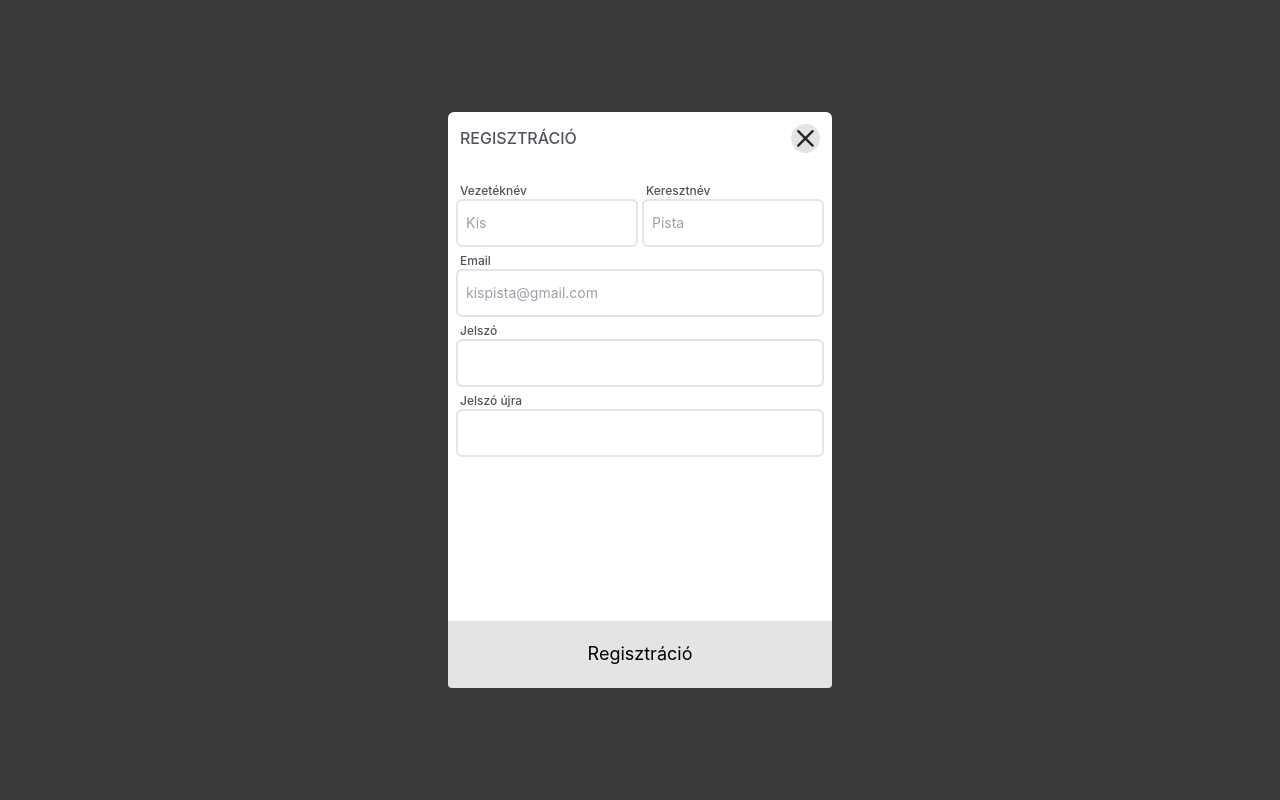
Scenario: Register component › should display success message when form sending succeeds
Type "Test" into the field with id "last-name" at (547, 223), box [458,201,636,245]
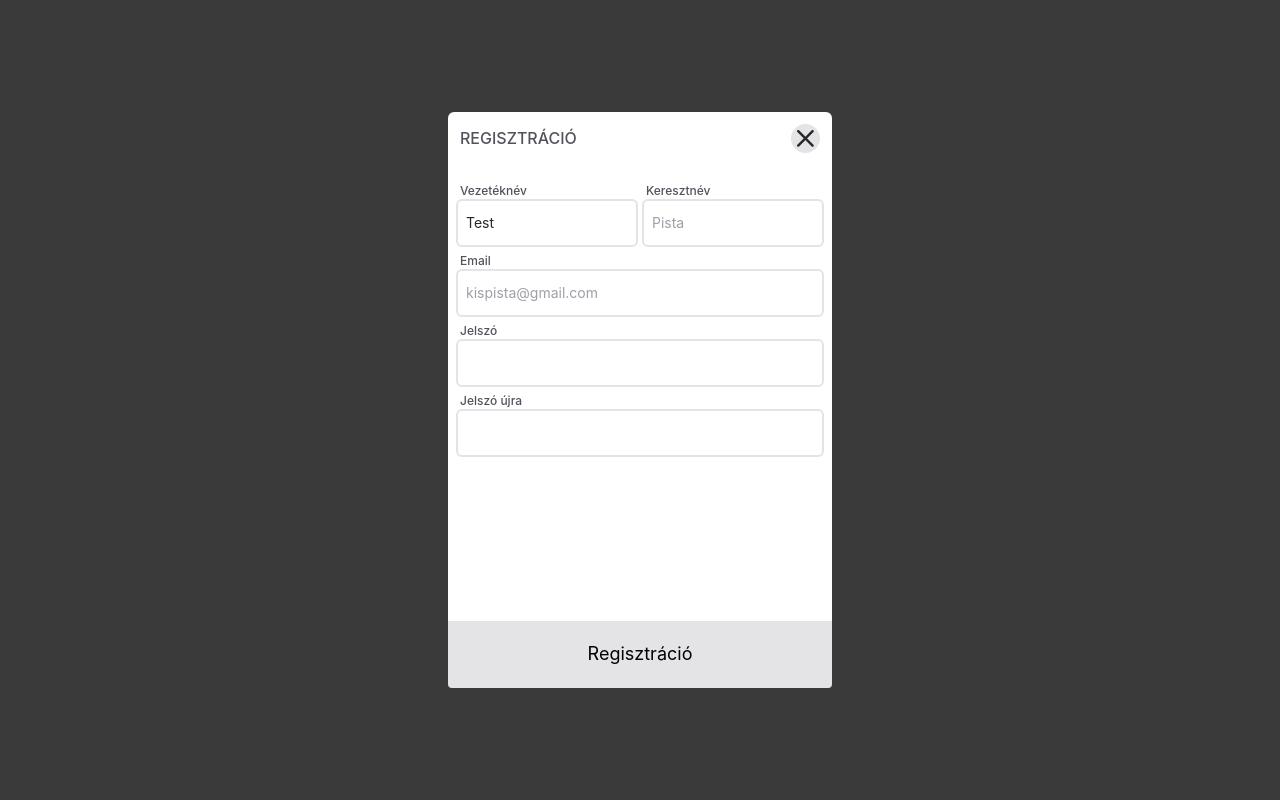
Type "Elek" into the field with id "first-name" at (733, 223), box [644,201,822,245]
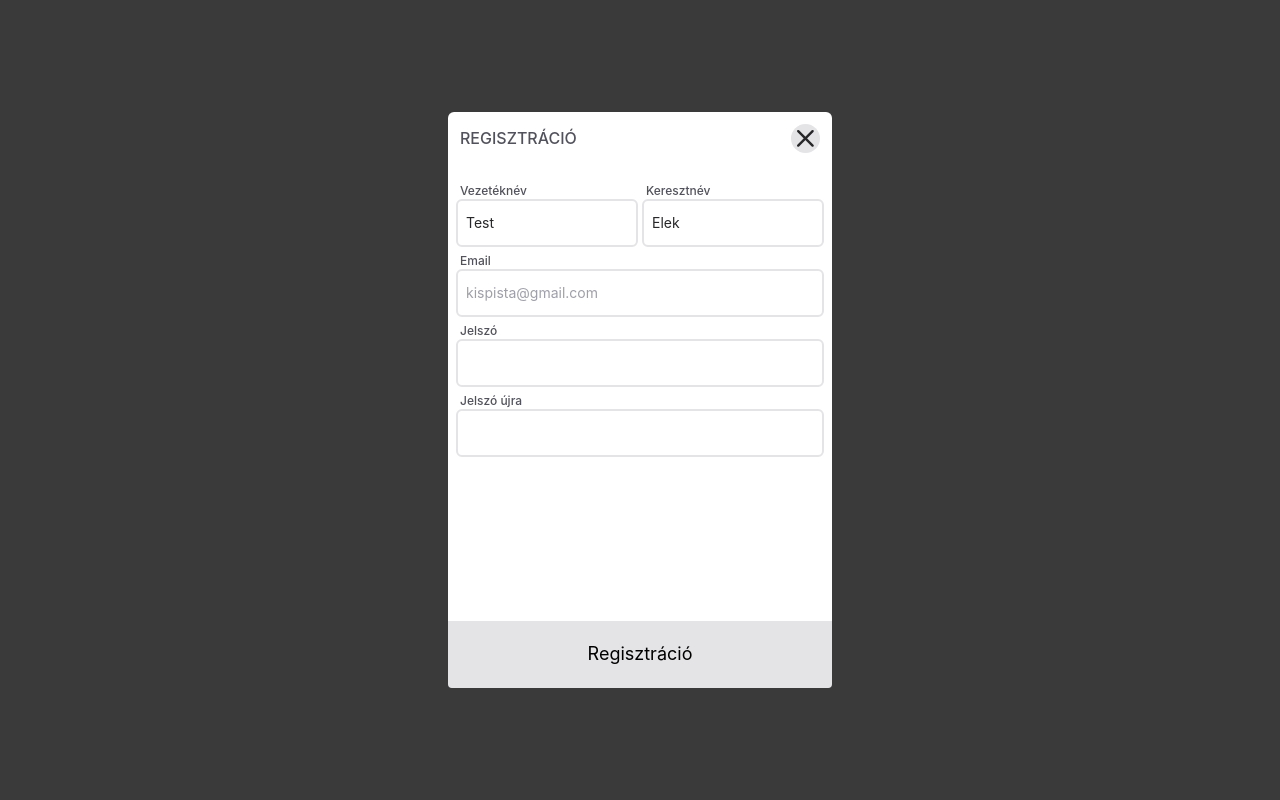
Type "tesztelek@gmail.com" into the field with id "email" at (640, 293), box [458,271,822,315]
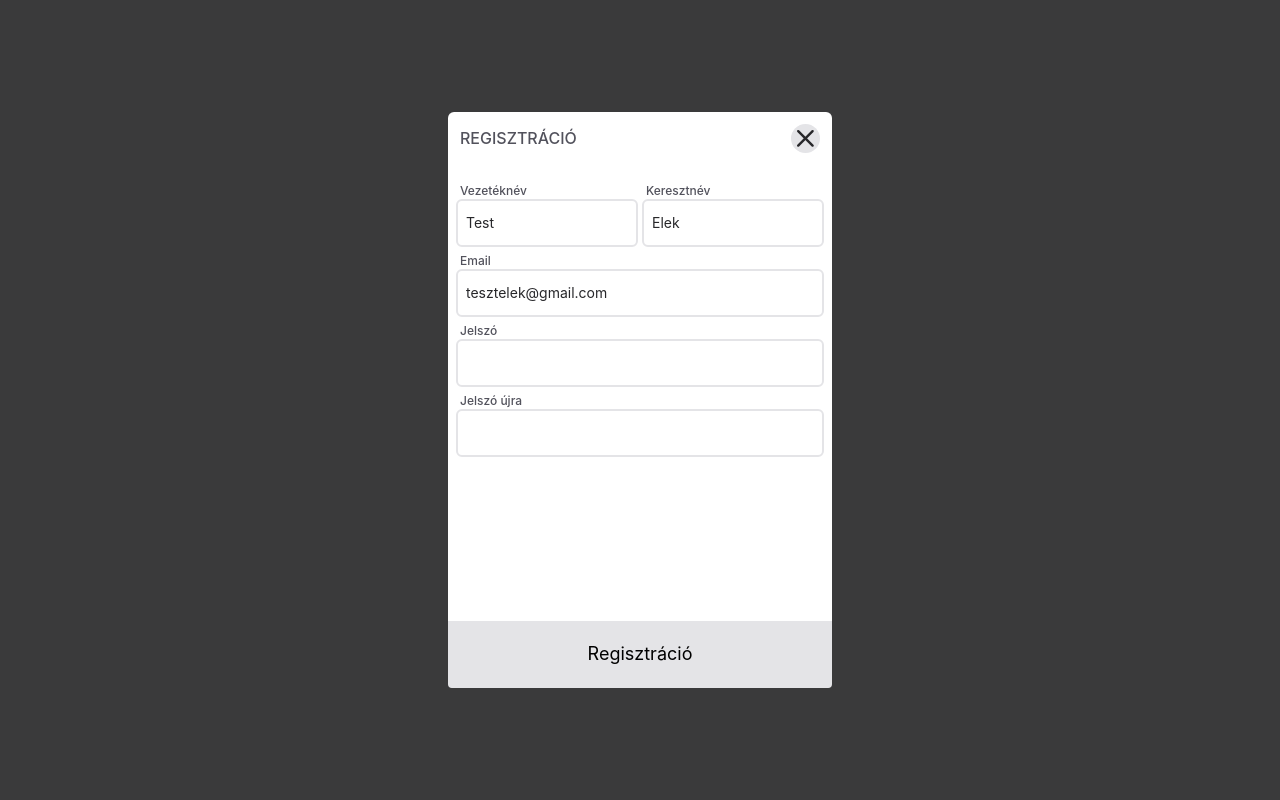
Type "password123" into the 1st password field at (640, 363), box [458,341,822,385]
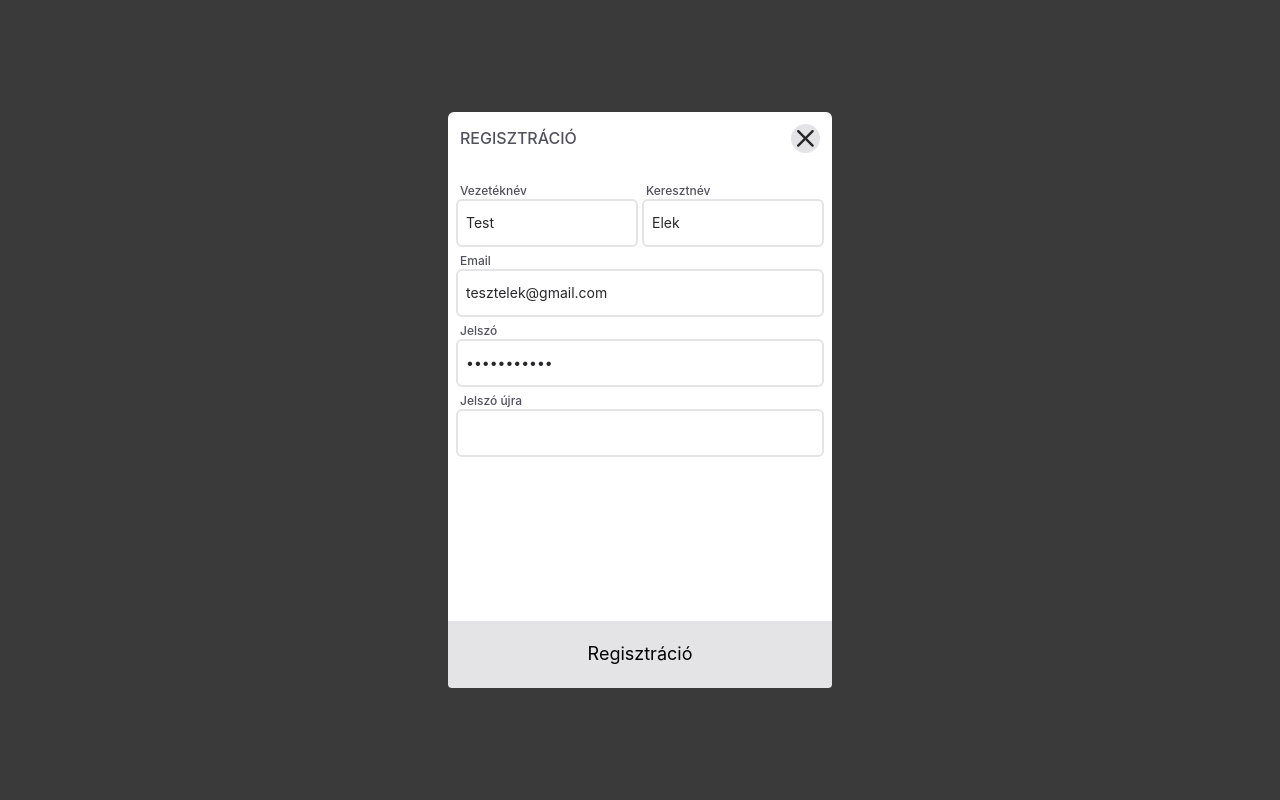
Type "password123" into the 2nd password field at (640, 433), box [458,411,822,455]
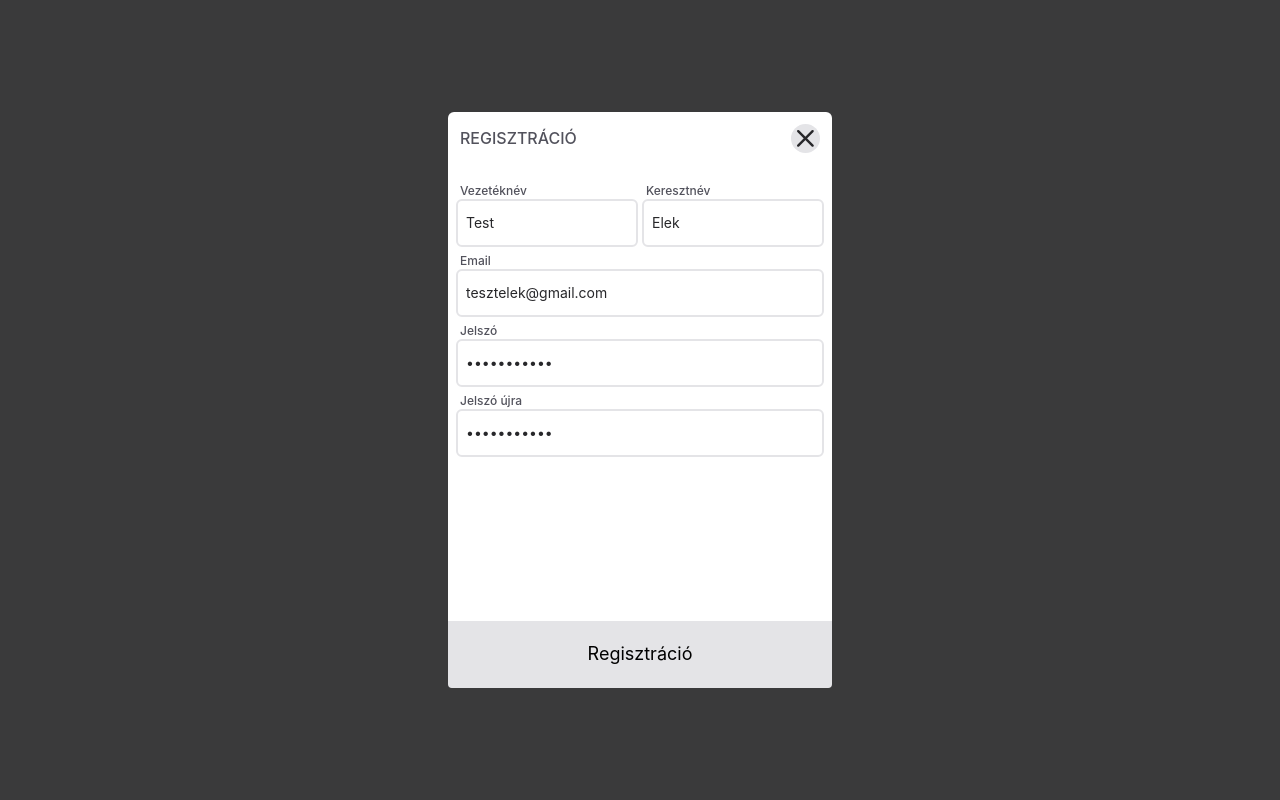
Click the button with id "submit" at (640, 654), box [448,621,832,688]
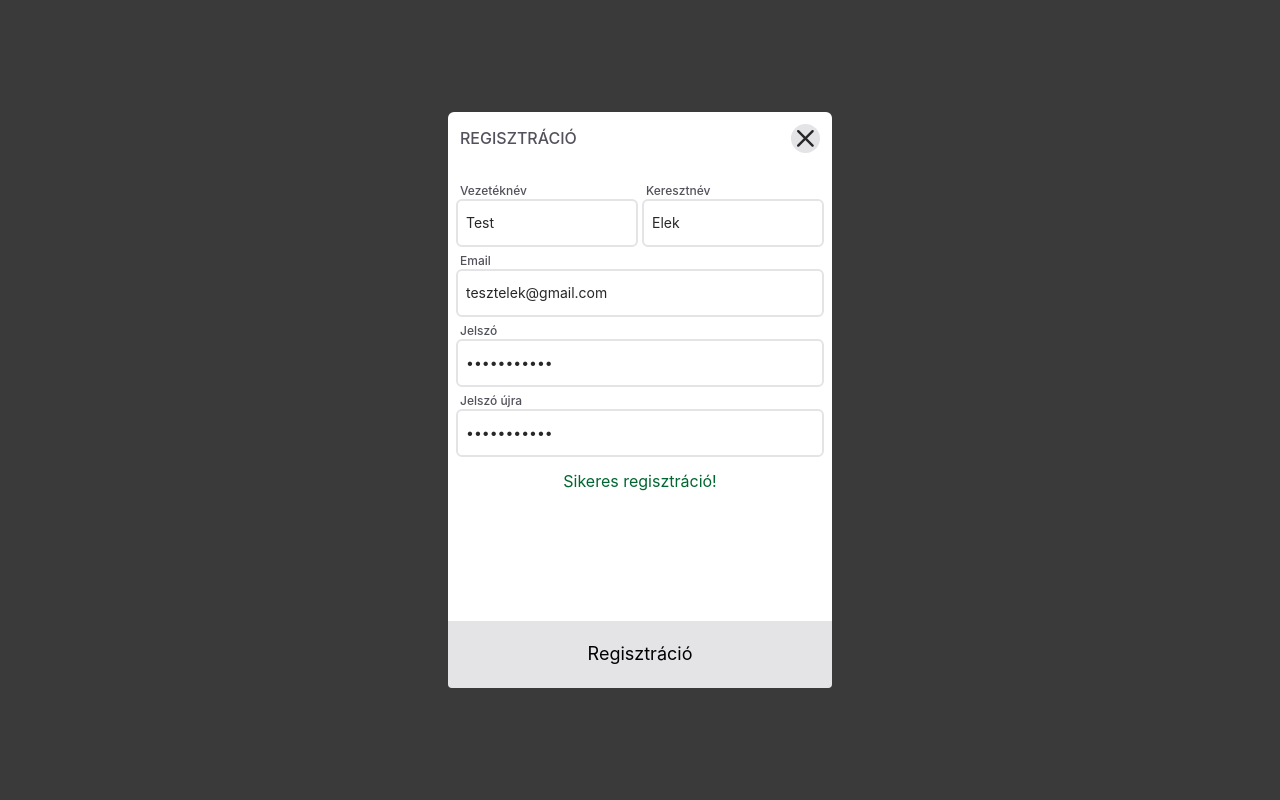
Check: the text "Sikeres regisztráció!" is shown, box [563,471,717,491]
